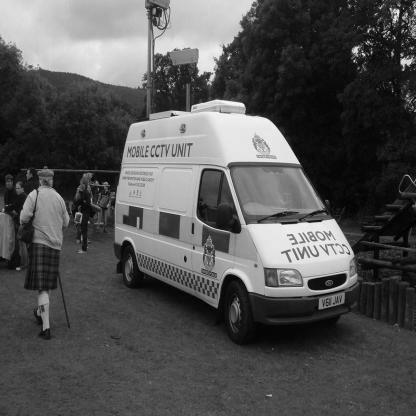ambulance: (112, 104, 367, 343)
